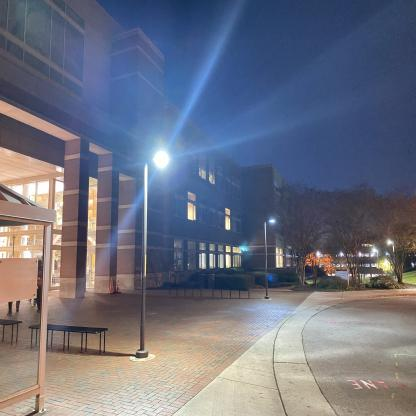eb2: (9, 2, 296, 294)
